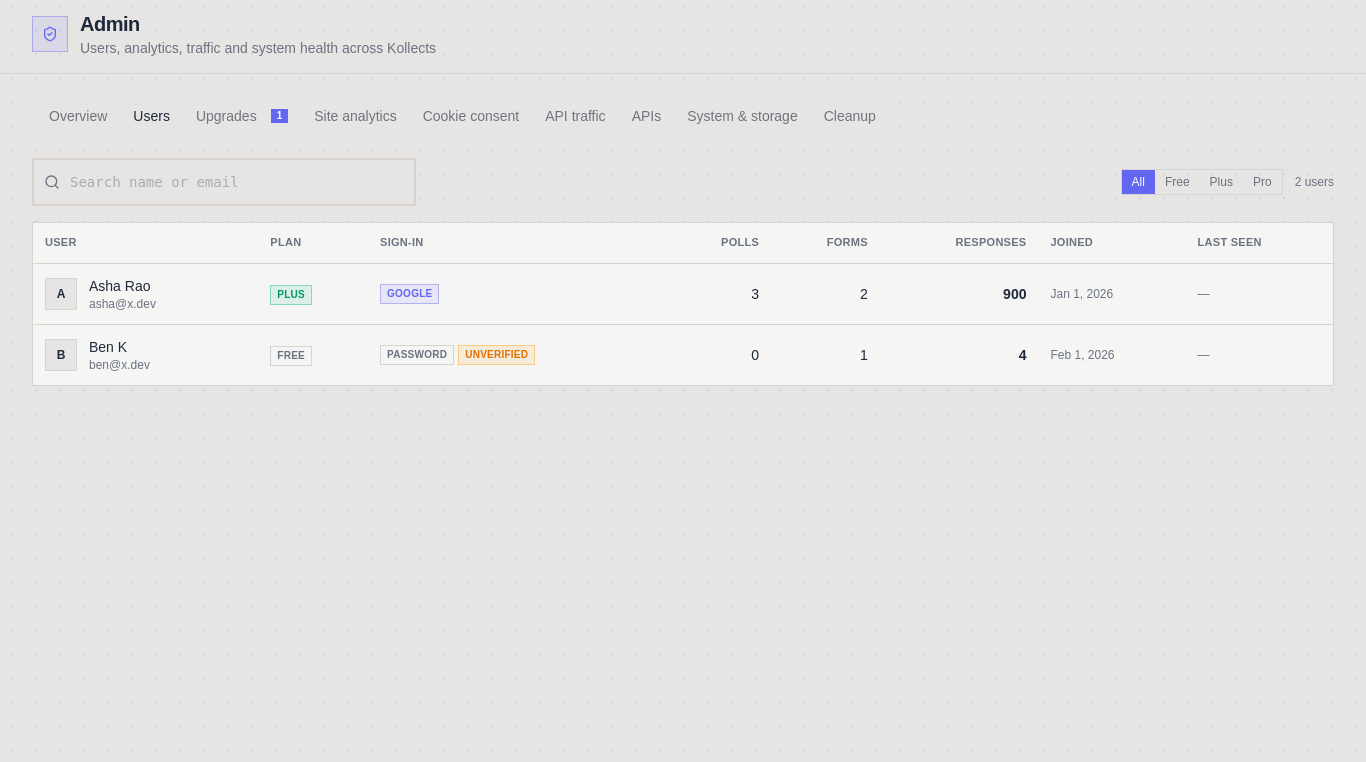
Test: Admin dashboard › users tab lists users, searches server-side, and opens a user's forms
This screenshot has width=1366, height=762.
Expected: the text "asha@x.dev" is shown, [89, 296, 156, 312]
Expected: the text "unverified" is shown, [458, 345, 535, 365]
Type "ben" into the field named "Search users".
click(224, 182); type("ben")  # box [32, 158, 416, 206]
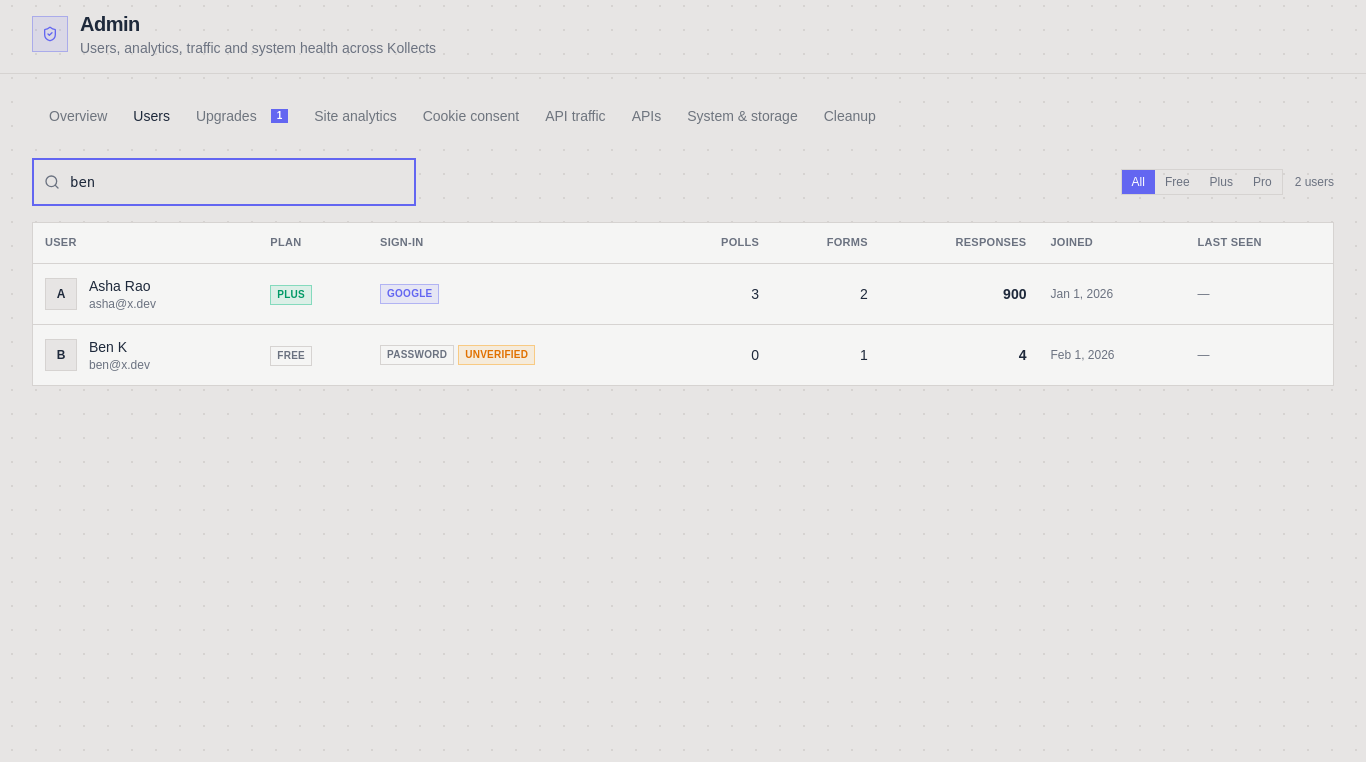
Expected: the text "ben@x.dev" is shown, [89, 357, 150, 373]
Click the text "Asha Rao".
click(122, 286)  # box [89, 276, 156, 296]
(page scrolled)
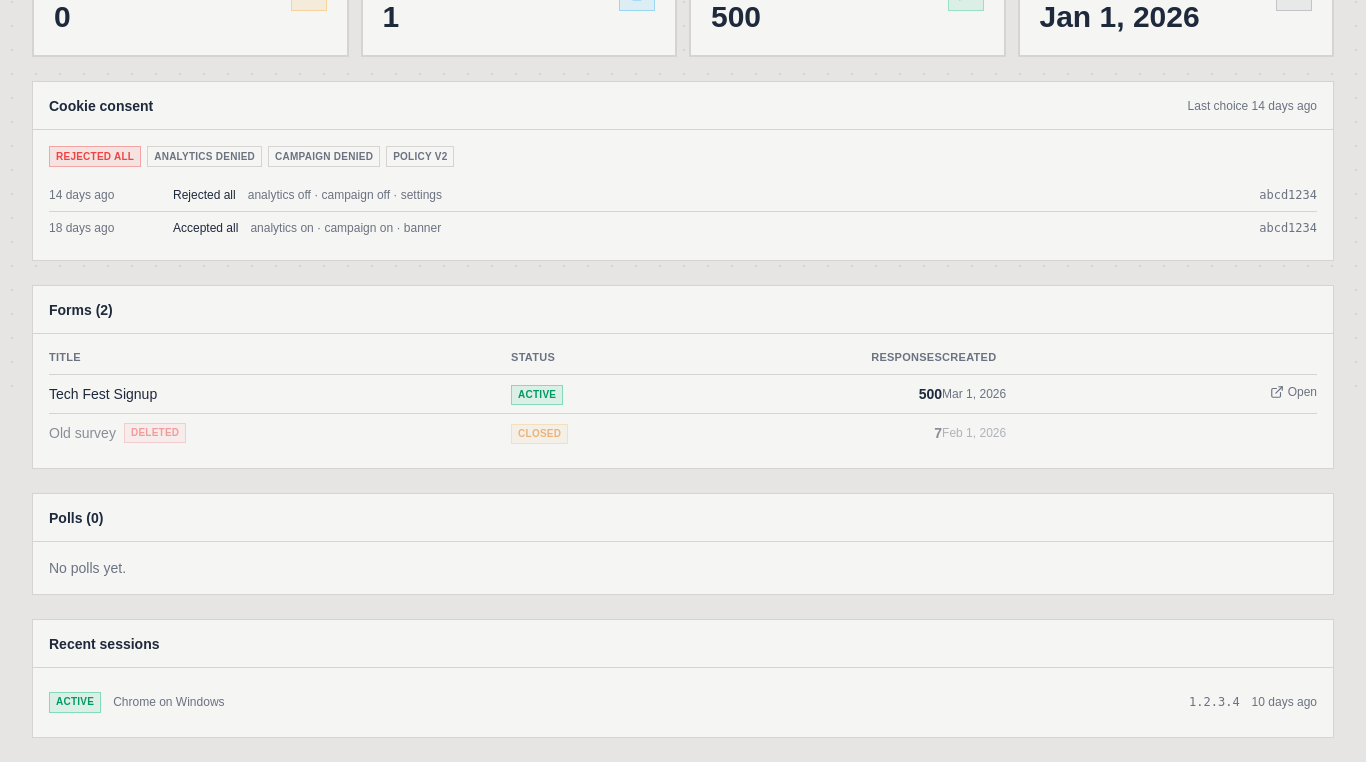
Now the heading "Forms (2)" is shown, box [49, 300, 113, 320]
Now the text "deleted" is shown, box [124, 423, 186, 443]
Now the text "Chrome on Windows" is shown, box [113, 695, 225, 709]
